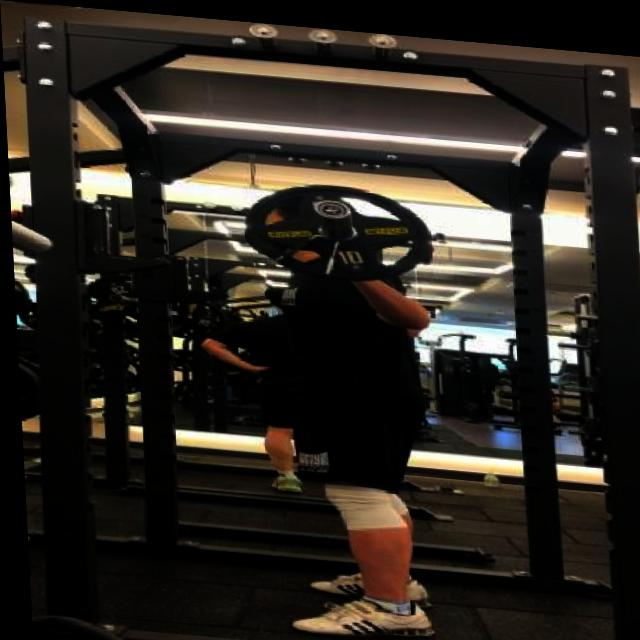barbell: (236, 170, 434, 289)
